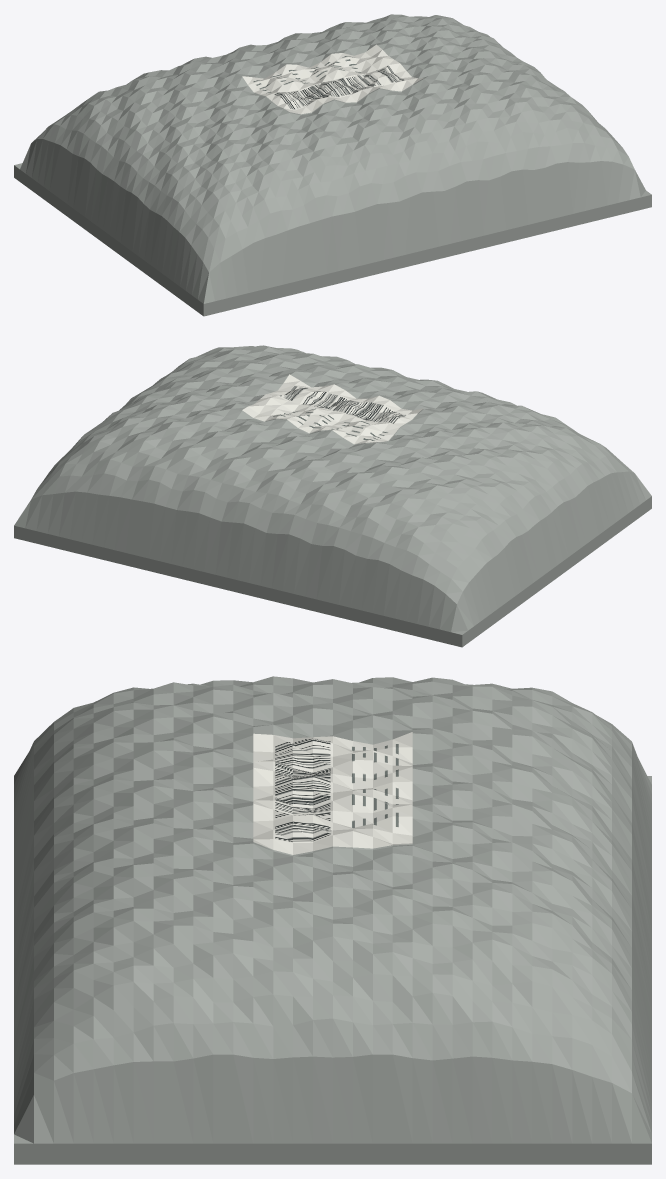
The model's file is task-05.glb.
The picture shows the model from 3 angles, top to bottom: view 1: azimuth 30°, elevation 25°; view 2: azimuth 150°, elevation 25°; view 3: azimuth 270°, elevation 25°; orthographic projection. The views are drawn at different scales.
Parts seen in each view (by area): view 1: bag__0; view 2: bag__0; view 3: bag__0.
Boxes of the visible parts, x1,y1,x2,y2 form: bag__0: (14,14,651,316); bag__0: (14,345,651,647); bag__0: (14,676,651,1164).
Bounding box in the file's own units: 0.3 × 0.0745 × 0.22.
Materials: 4 (1 with a texture image).
